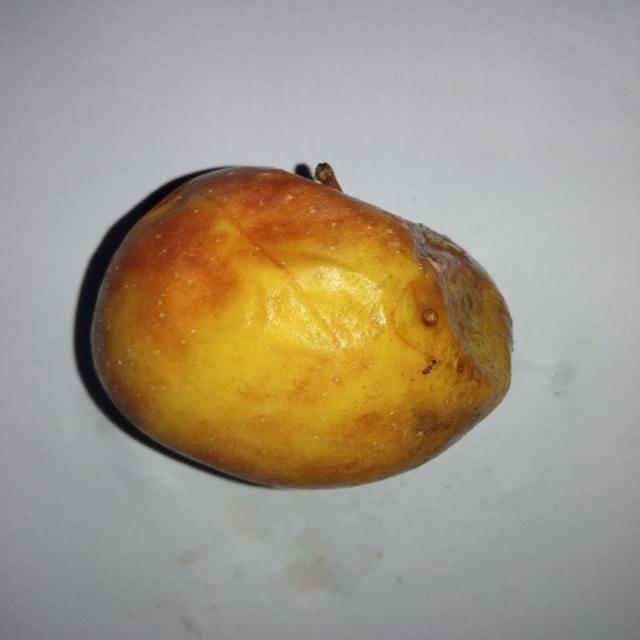rotten_apple: (87, 161, 516, 488)
